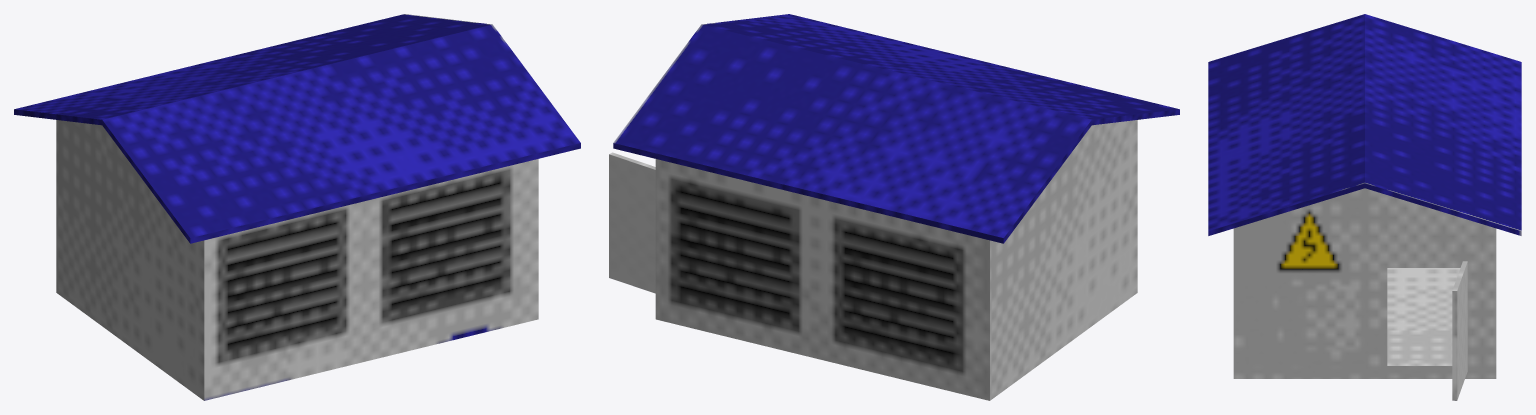
Rendered from budka.glb.
3 views of the same model, side by side, from view 1: azimuth 30°, elevation 25°; view 2: azimuth 150°, elevation 25°; view 3: azimuth 270°, elevation 25° (orthographic). The views are drawn at different scales.
Visible parts, largest first — view 1: Cube-col; view 2: Cube-col; view 3: Cube-col.
Boxes of the visible parts, left/top/right/bottom form: Cube-col: left=14, top=14, right=580, bottom=400; Cube-col: left=609, top=14, right=1179, bottom=400; Cube-col: left=1208, top=14, right=1521, bottom=400.
Bounding box in the file's own units: 7.22 × 3.74 × 5.11.
Materials: 1 (1 with a texture image).
